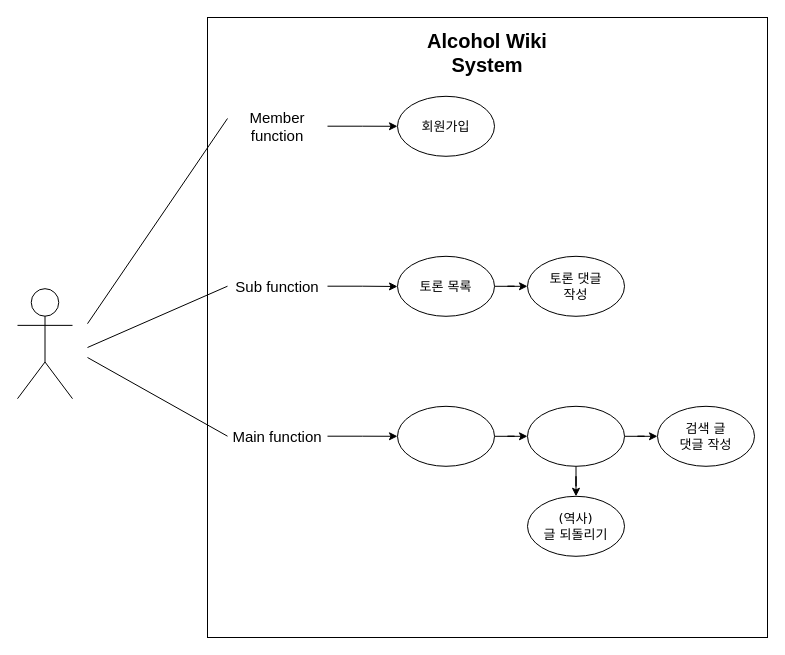
Some shapes in this 785 by 655 pixel diagram are drawn without their labels. Each missing label, with the centre of its shape:
Non Member: [44,343]
검색 글 편집: [575,435]
글 검색: [445,435]
